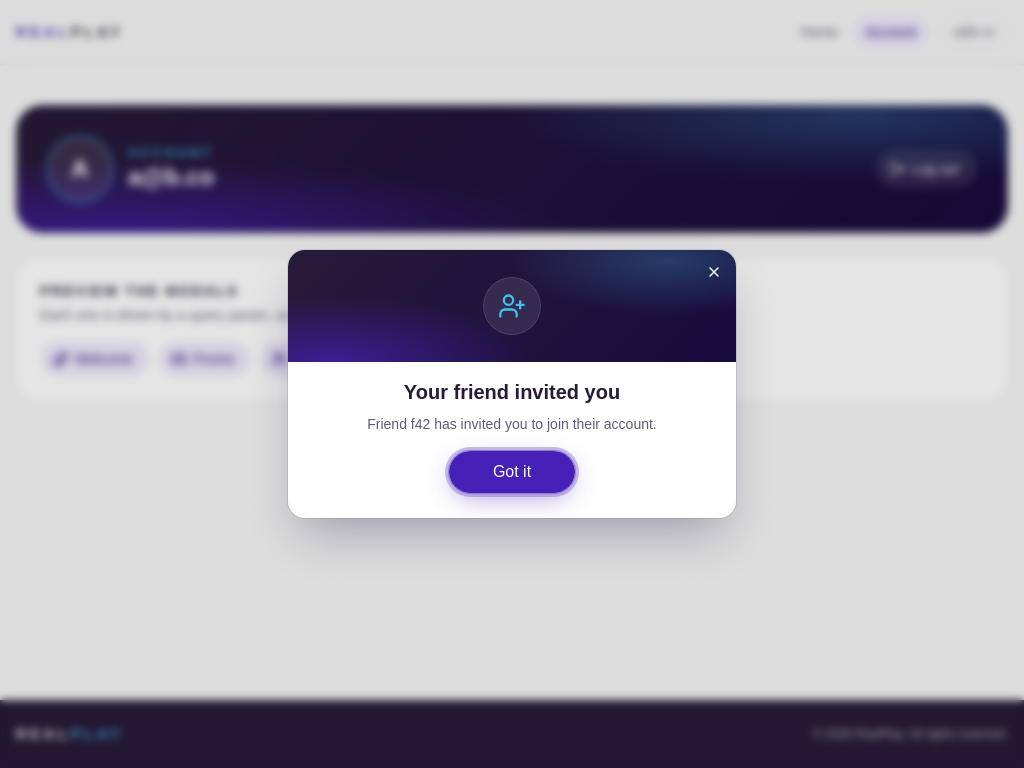
Scenario: URL-driven modals for an authenticated user › opens on cold load on any page, and closing removes only its own param
expect the number of dialogs is 1: met, box [288,250,736,518]
expect the dialog "Your friend invited you" shows "f42": met, box [367,416,657,432]
Step 1. Click the button "Got it" → (512, 472), box [448,450,576,494]
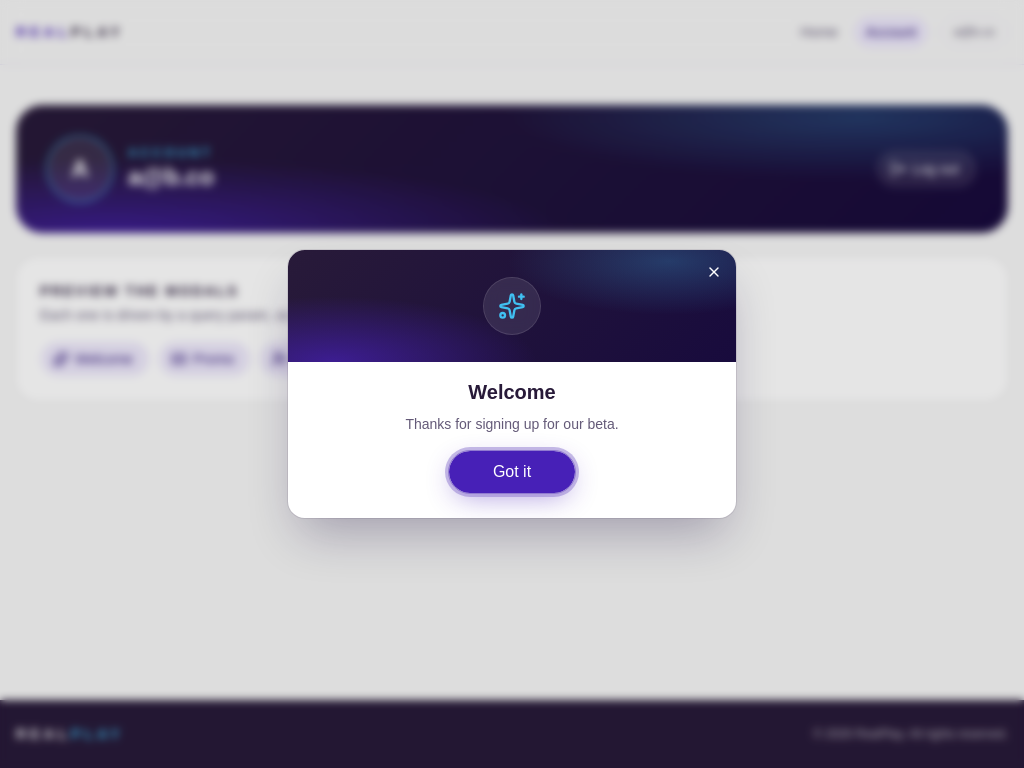
expect the number of dialogs is 1: met, box [288,250,736,518]
